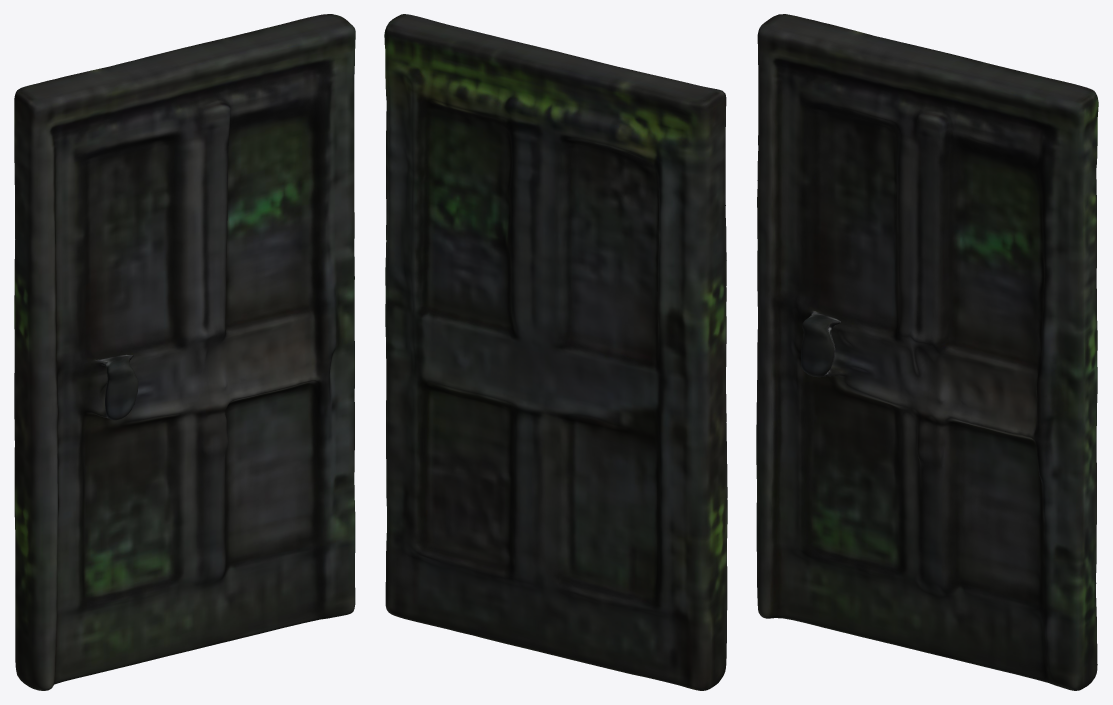
Rendered from door for house_2.glb.
3 renders of one model, left to right at view 1: azimuth 30°, elevation 25°; view 2: azimuth 150°, elevation 25°; view 3: azimuth 330°, elevation 25°, orthographic.
Visible parts, largest first — view 1: world; view 2: world; view 3: world.
Boxes of the visible parts, x1,y1,x2,y2 form: world: [14, 14, 355, 690]; world: [384, 14, 727, 690]; world: [756, 14, 1098, 690].
Size of the model in its own units: 0.3027 by 0.5232 by 0.0695.
Materials: 1 (1 with a texture image).
